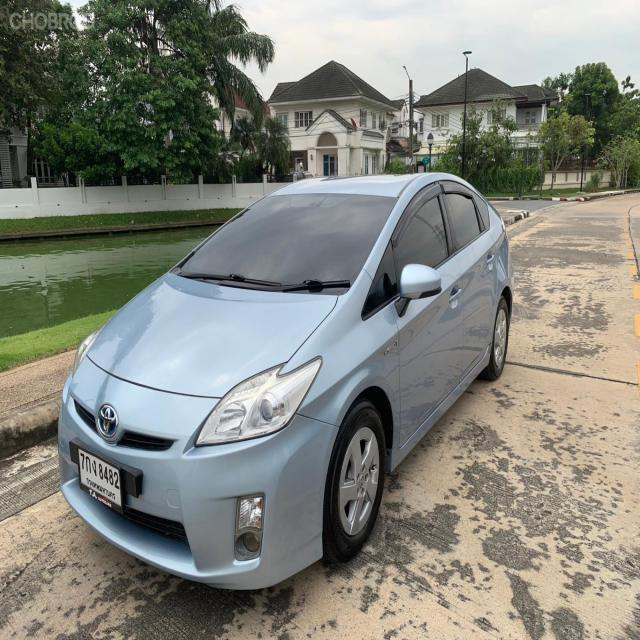license_plate: (77, 443, 126, 521)
